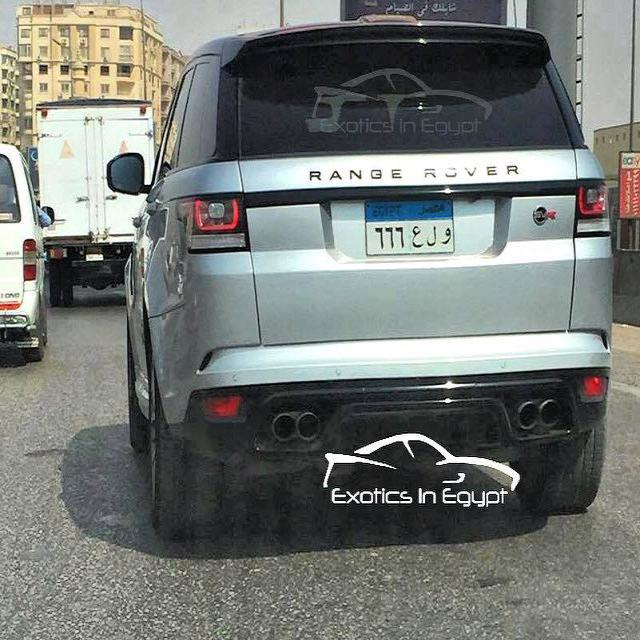License Plate: (363, 195, 458, 258)
